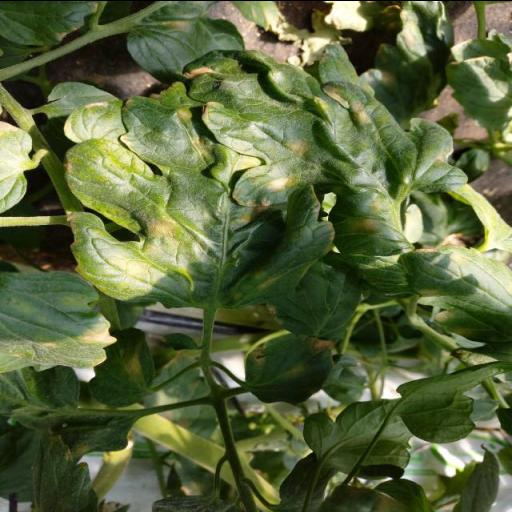disease_tomato: (64, 80, 335, 308), (314, 80, 470, 294), (177, 49, 323, 208), (0, 268, 120, 374)
